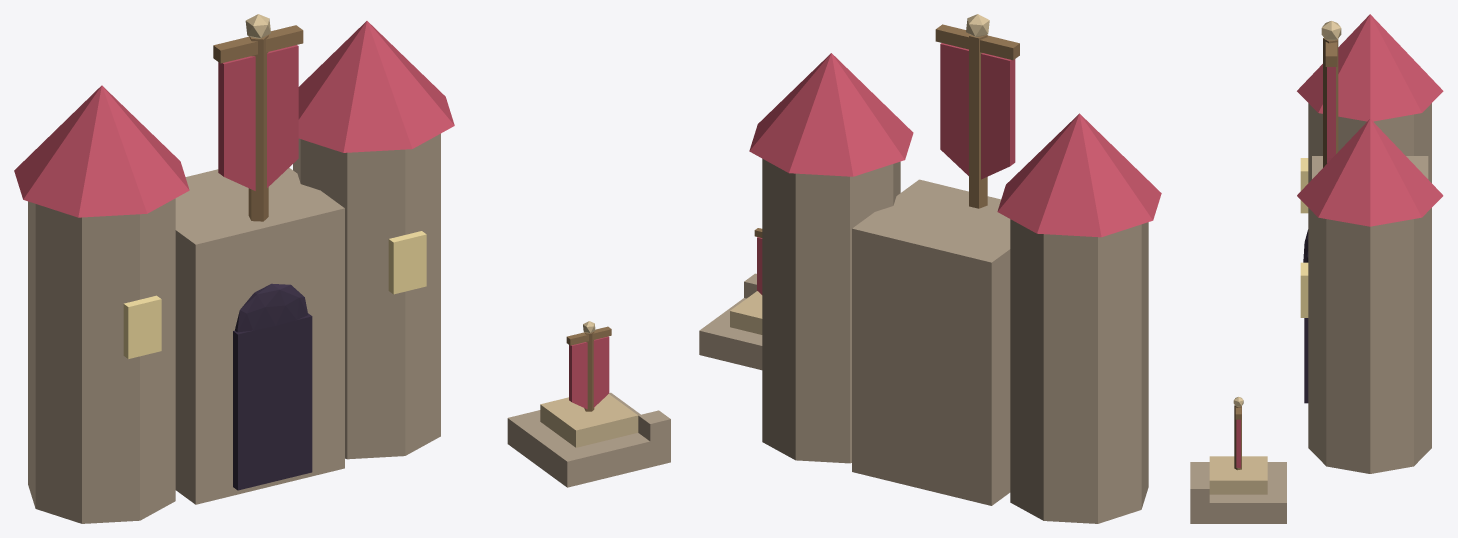
The model's file is medieval-landmark-s2.glb.
3 renders of one model, left to right at view 1: azimuth 30°, elevation 25°; view 2: azimuth 150°, elevation 25°; view 3: azimuth 270°, elevation 25°, orthographic. The views are drawn at different scales.
Visible parts, largest first — view 1: medieval-landmark-s2; view 2: medieval-landmark-s2; view 3: medieval-landmark-s2.
Part boxes in pixels (x1,y1,x2,y2): medieval-landmark-s2: [14, 14, 670, 523]; medieval-landmark-s2: [699, 14, 1161, 523]; medieval-landmark-s2: [1190, 14, 1443, 523].
Bounding box in the file's own units: 1.3 × 1.07 × 0.655.
